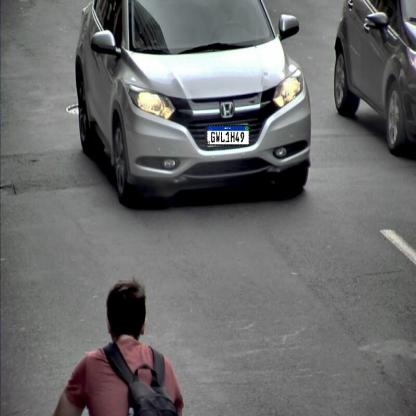PlacaM: (207, 124, 250, 146)
